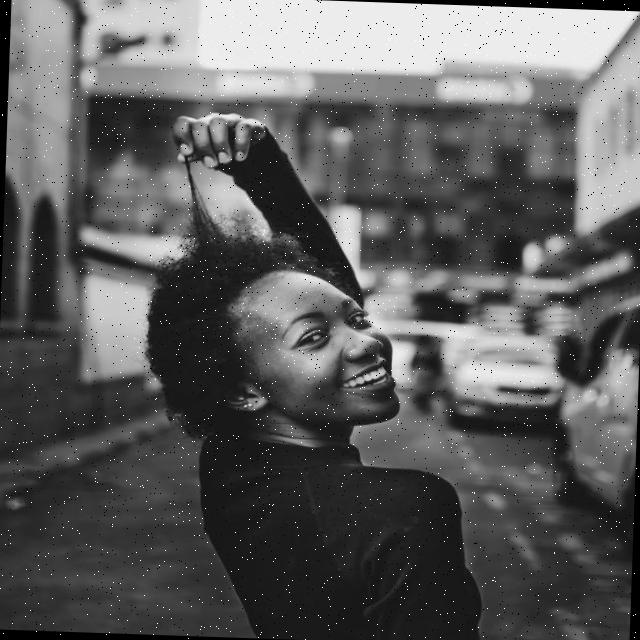Happiness: (221, 262, 410, 433)
